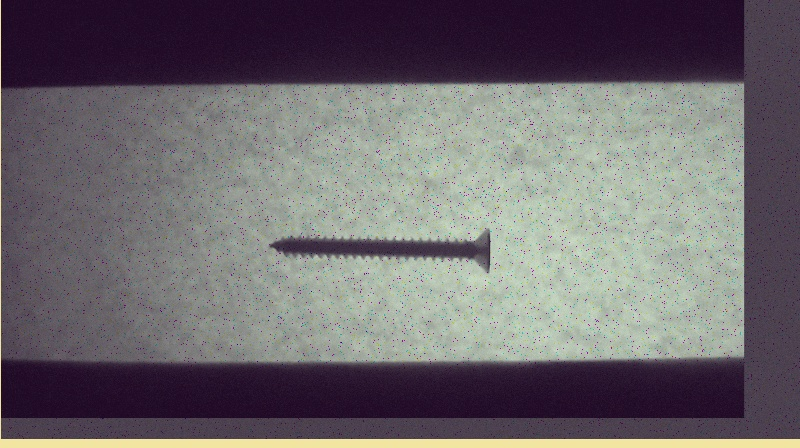S002: (265, 225, 492, 276)
